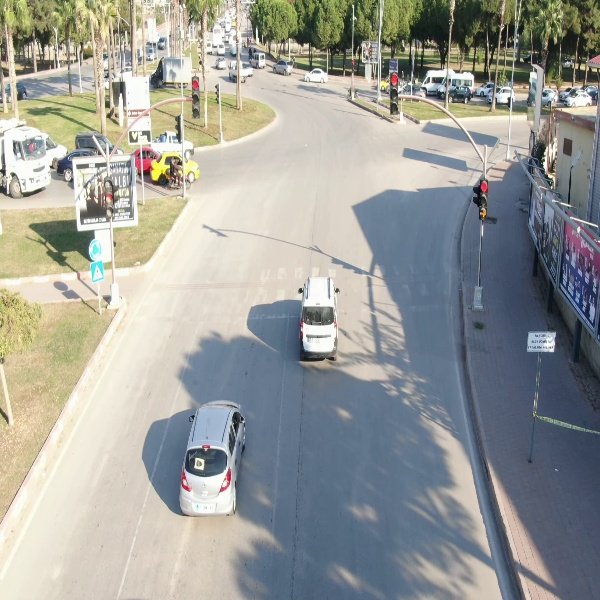car: (176, 396, 248, 520), (296, 273, 341, 363), (563, 88, 595, 108), (488, 86, 517, 105), (447, 85, 474, 104), (303, 67, 331, 85), (271, 58, 294, 77), (248, 52, 267, 70), (215, 55, 229, 71)
